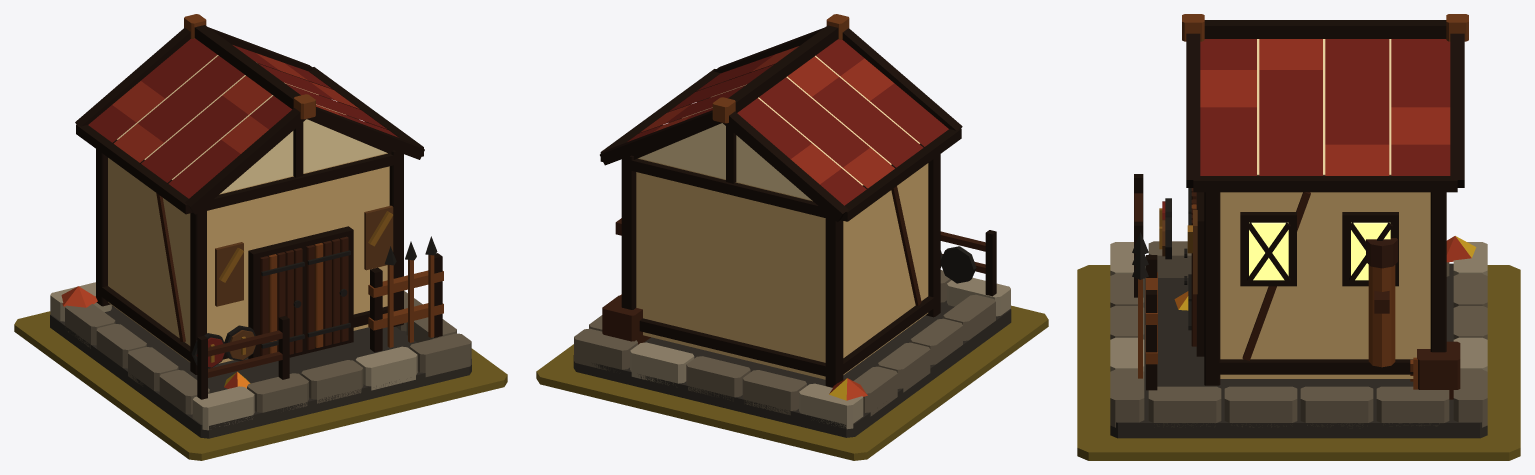
The model's file is barracks_t3.glb.
3 views of the same model, side by side, from view 1: azimuth 30°, elevation 25°; view 2: azimuth 150°, elevation 25°; view 3: azimuth 270°, elevation 25° (orthographic). The views are drawn at different scales.
Visible parts, largest first — view 1: MMR | barracks | T03 Architecture.001, MMR | barracks | Tier 03 Ground.001, MMR | barracks | T03 Banner Flag 1.001, MMR | barracks | T03 Banner Flag 2.001, MMR | barracks | T03 Autumn Dressing.001; view 2: MMR | barracks | T03 Architecture.001, MMR | barracks | Tier 03 Ground.001, MMR | barracks | T03 Autumn Dressing.001; view 3: MMR | barracks | T03 Architecture.001, MMR | barracks | Tier 03 Ground.001, MMR | barracks | T03 Autumn Dressing.001.
Part boxes in pixels (left/top/right/bottom): MMR | barracks | T03 Architecture.001: left=50, top=14, right=471, bottom=438; MMR | barracks | Tier 03 Ground.001: left=14, top=311, right=507, bottom=460; MMR | barracks | T03 Banner Flag 1.001: left=215, top=242, right=243, bottom=306; MMR | barracks | T03 Banner Flag 2.001: left=364, top=205, right=393, bottom=270; MMR | barracks | T03 Autumn Dressing.001: left=61, top=286, right=250, bottom=388; MMR | barracks | T03 Architecture.001: left=573, top=14, right=1011, bottom=437; MMR | barracks | Tier 03 Ground.001: left=536, top=305, right=1048, bottom=460; MMR | barracks | T03 Autumn Dressing.001: left=829, top=378, right=867, bottom=400; MMR | barracks | T03 Architecture.001: left=1110, top=14, right=1487, bottom=438; MMR | barracks | Tier 03 Ground.001: left=1077, top=265, right=1520, bottom=460; MMR | barracks | T03 Autumn Dressing.001: left=1174, top=236, right=1476, bottom=310.
Size of the model in its own units: 2.35 by 2.04 by 2.35.
2 materials, 1 textured.
